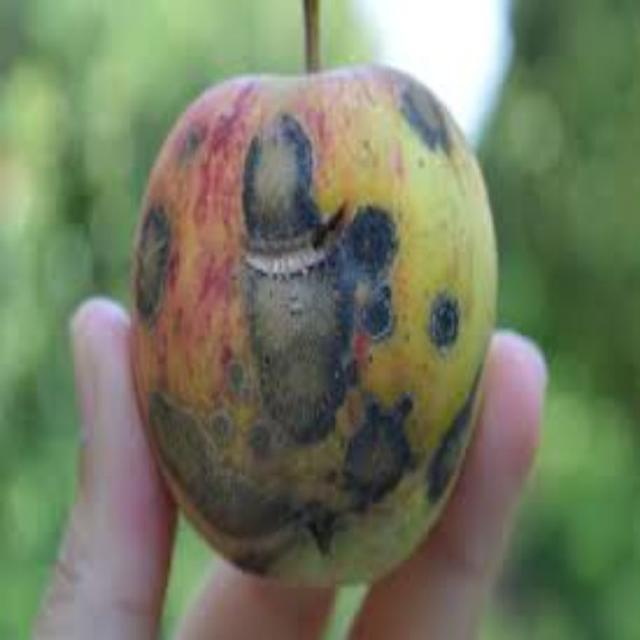Rotten Apple: (135, 30, 501, 615)
